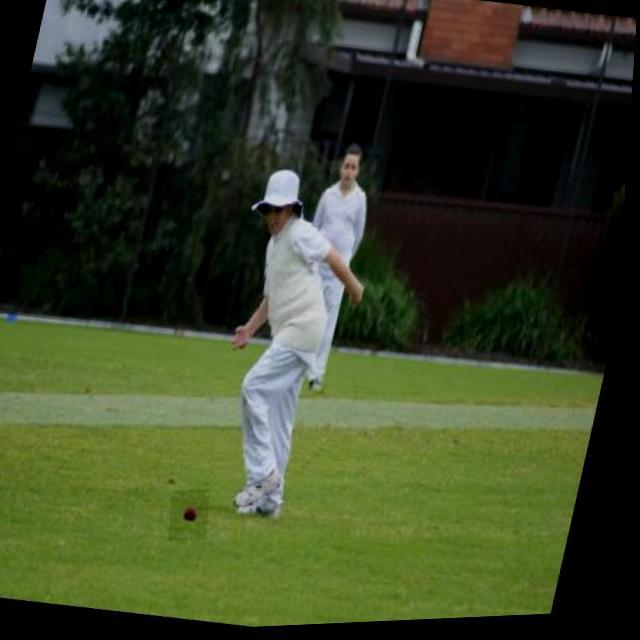-: (176, 492, 217, 542)
